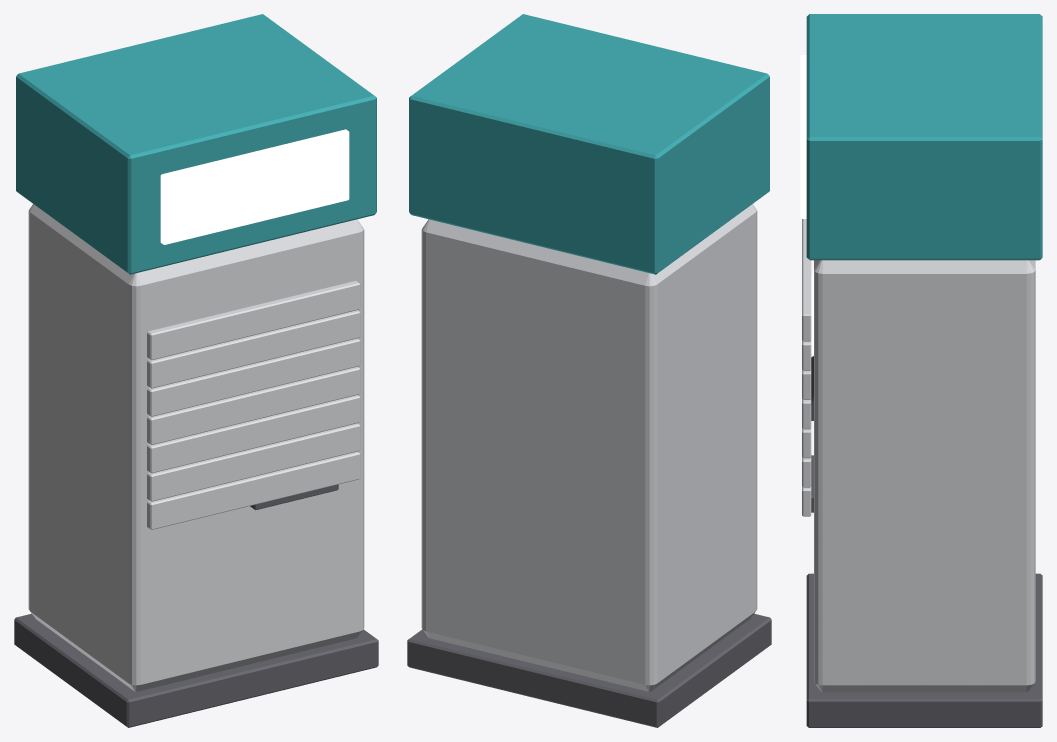
Rendered from motorway-services-and-truck-park-cash-machine-faab98eb__35943.glb.
3 renders of one model, left to right at view 1: azimuth 30°, elevation 25°; view 2: azimuth 150°, elevation 25°; view 3: azimuth 270°, elevation 25°, orthographic. The views are drawn at different scales.
Visible parts, largest first — view 1: cash-machine, atm-shutter; view 2: cash-machine; view 3: cash-machine, atm-shutter.
Part boxes in pixels (box(x1,y1,x2,y2)): cash-machine: box(14, 14, 378, 727); atm-shutter: box(147, 281, 360, 529); cash-machine: box(407, 14, 771, 727); cash-machine: box(800, 14, 1042, 727); atm-shutter: box(802, 219, 811, 516).
Size of the model in its own units: 0.8401 by 1.82 by 0.678.
